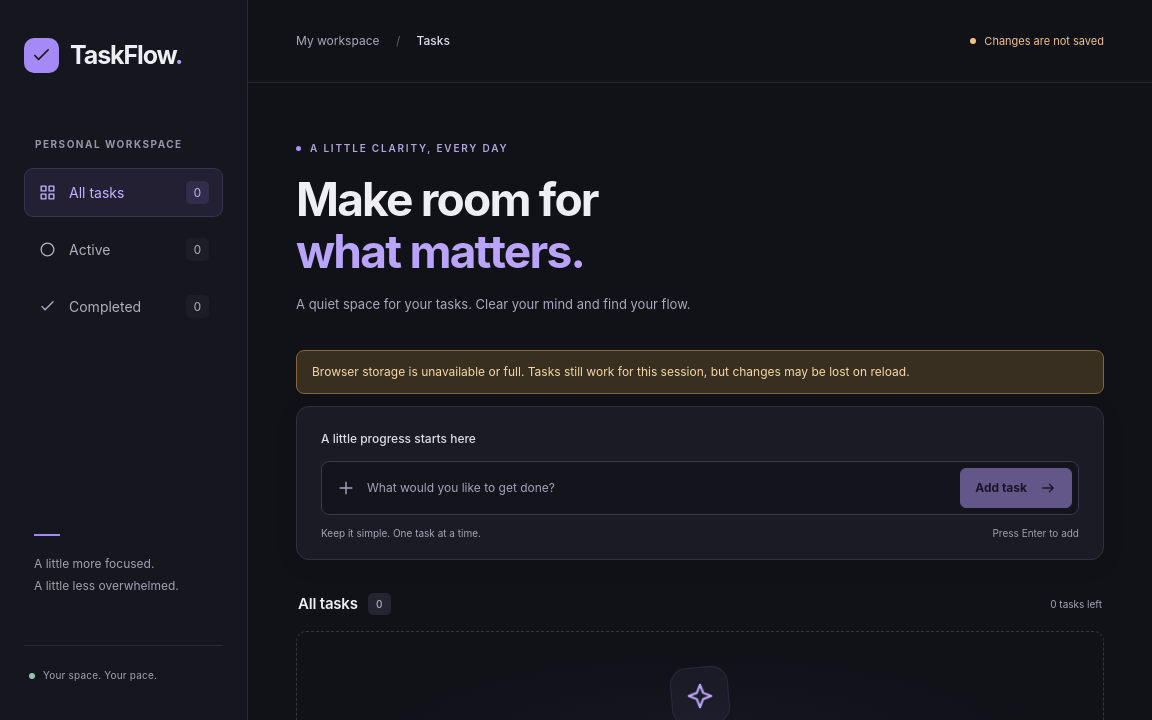
TaskFlow user journeys › keeps working and reports a storage write failure
Expected: the 2nd message shows "Browser storage is unavailable or full", [312,364,910,379]
Type "Session only" into the field labelled "A little progress starts here" at (658, 488), box [367,470,949,506]
Then press Enter
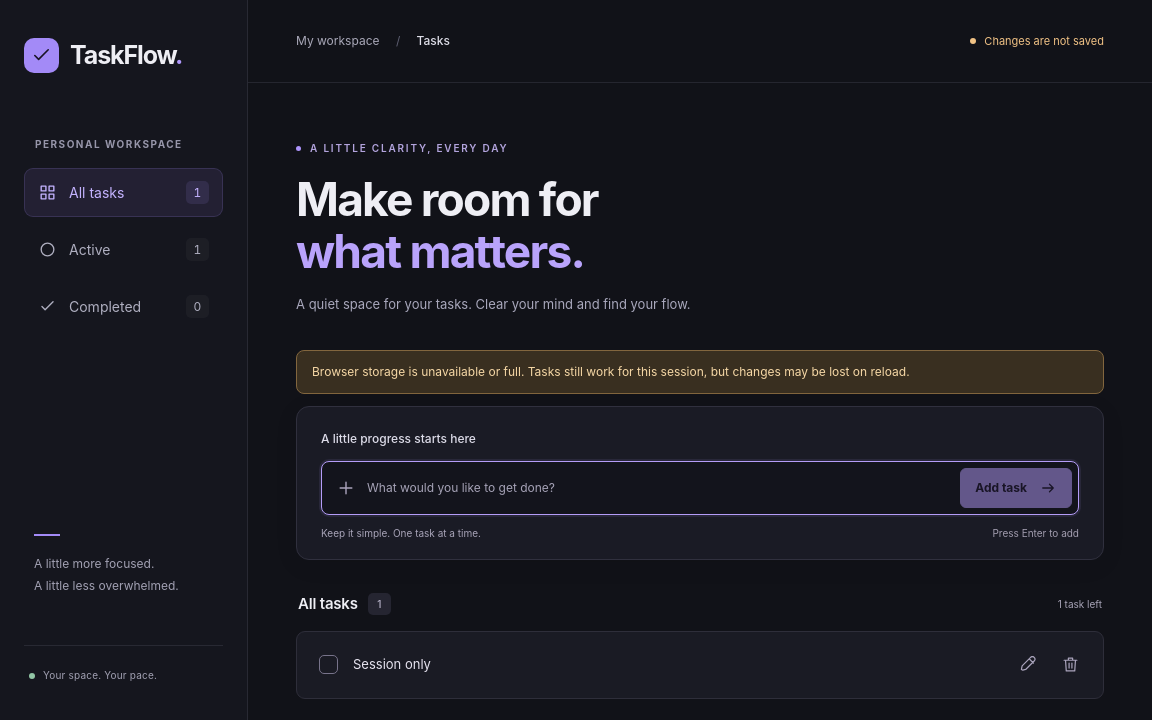
Expected: the text "Changes are not saved" is shown, [970,33,1104,49]
Now the text "Session only" is shown, box [353,656,431,672]
